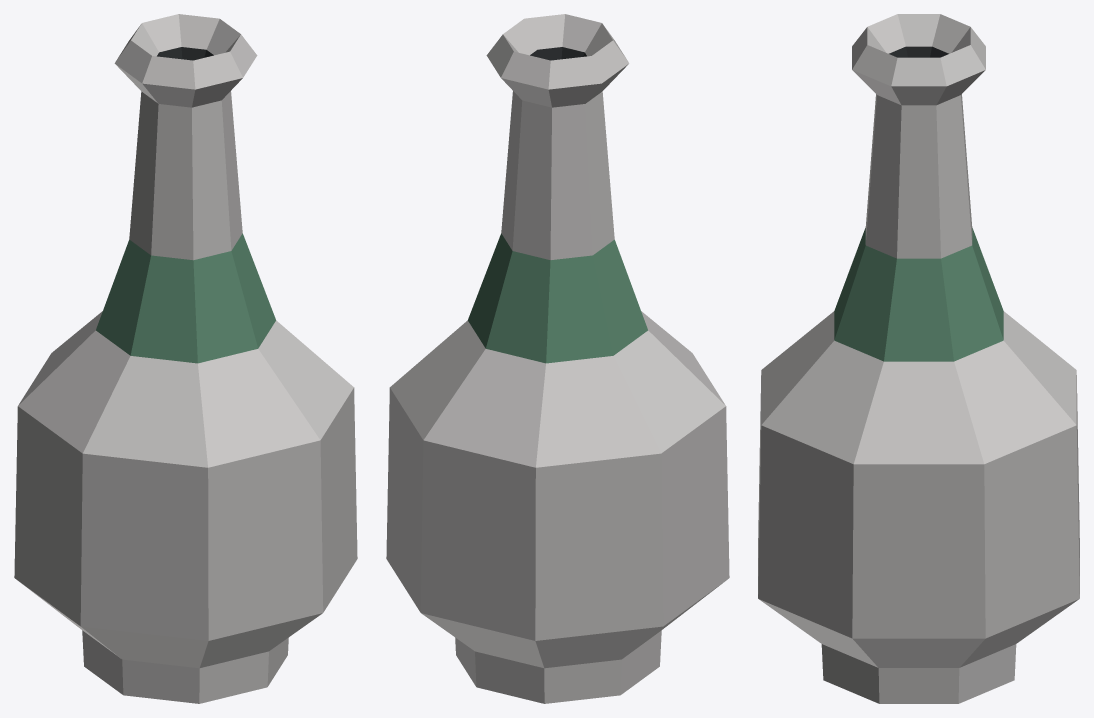
Rendered from SM_Prop_Vase_07.glb.
The picture shows the model from 3 angles, left to right: view 1: azimuth 30°, elevation 25°; view 2: azimuth 150°, elevation 25°; view 3: azimuth 270°, elevation 25°; orthographic projection.
Parts seen in each view (by area): view 1: SM_Prop_Vase_07; view 2: SM_Prop_Vase_07; view 3: SM_Prop_Vase_07.
Part boxes in pixels (bbox=[...]): SM_Prop_Vase_07: bbox=[14, 14, 357, 703]; SM_Prop_Vase_07: bbox=[386, 14, 729, 703]; SM_Prop_Vase_07: bbox=[758, 14, 1079, 703].
Bounding box in the file's own units: 0.3899 × 0.8391 × 0.3899.
1 material, 1 textured.
